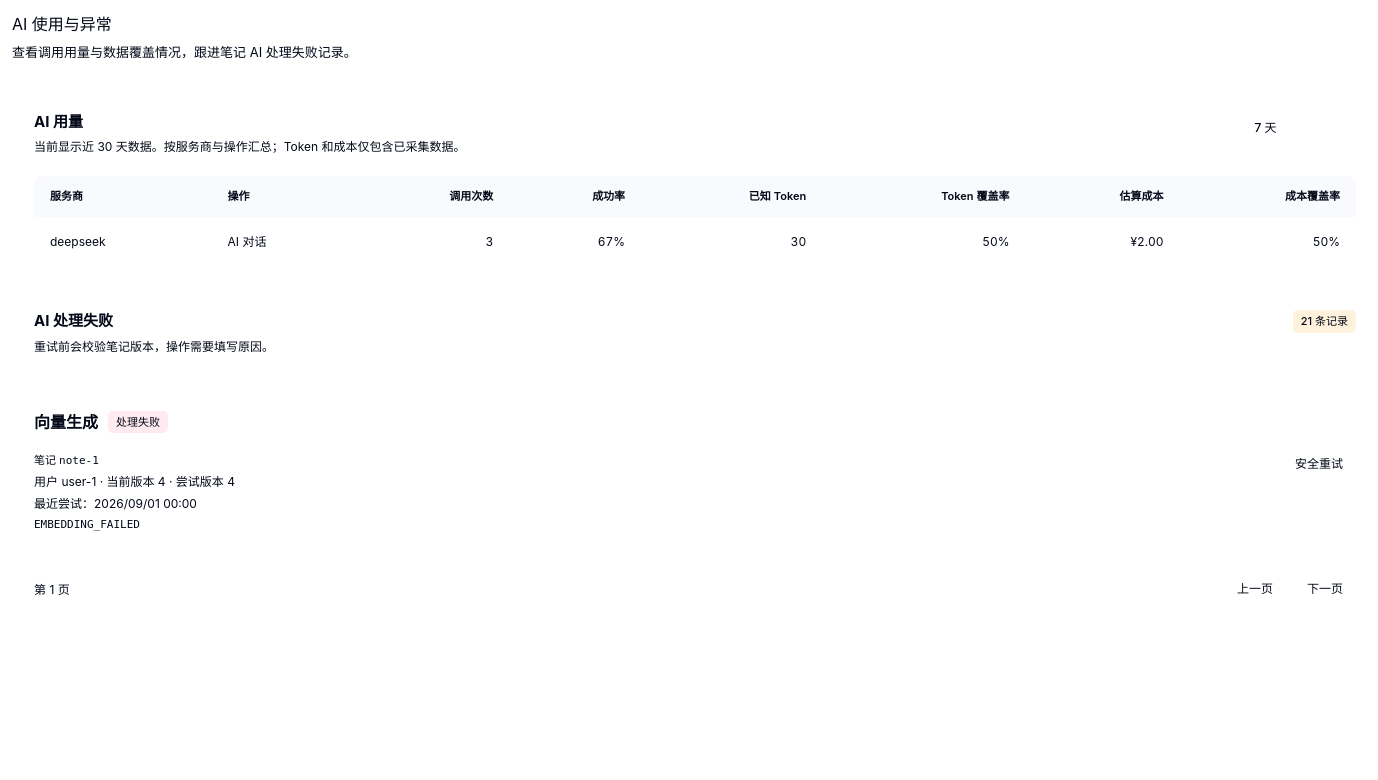
Scenario: AiPage › paginates failures independently with nested pagination
This screenshot has width=1378, height=780.
Expected: the text "note-1" is shown, x1=59 y1=454 x2=99 y2=467
Click the button with aria-label "下一页失败任务": point(1325, 590) x1=1294 y1=572 x2=1356 y2=608
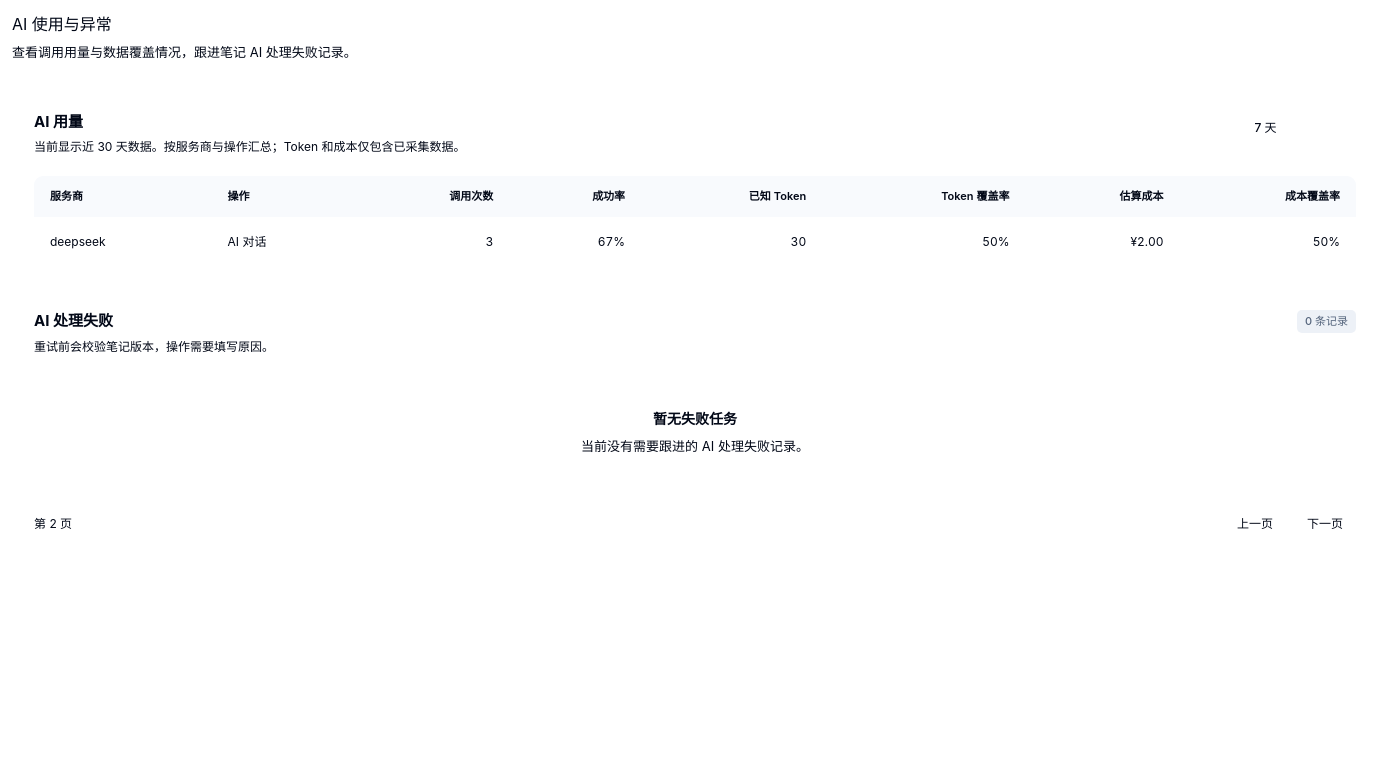
Expected: the text "第 2 页" is shown, x1=34 y1=515 x2=72 y2=533
Expected: the heading "暂无失败任务" is shown, x1=653 y1=408 x2=737 y2=429
